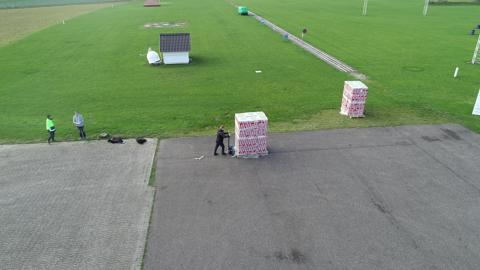RockwoolPallet: (232, 112, 271, 154)
